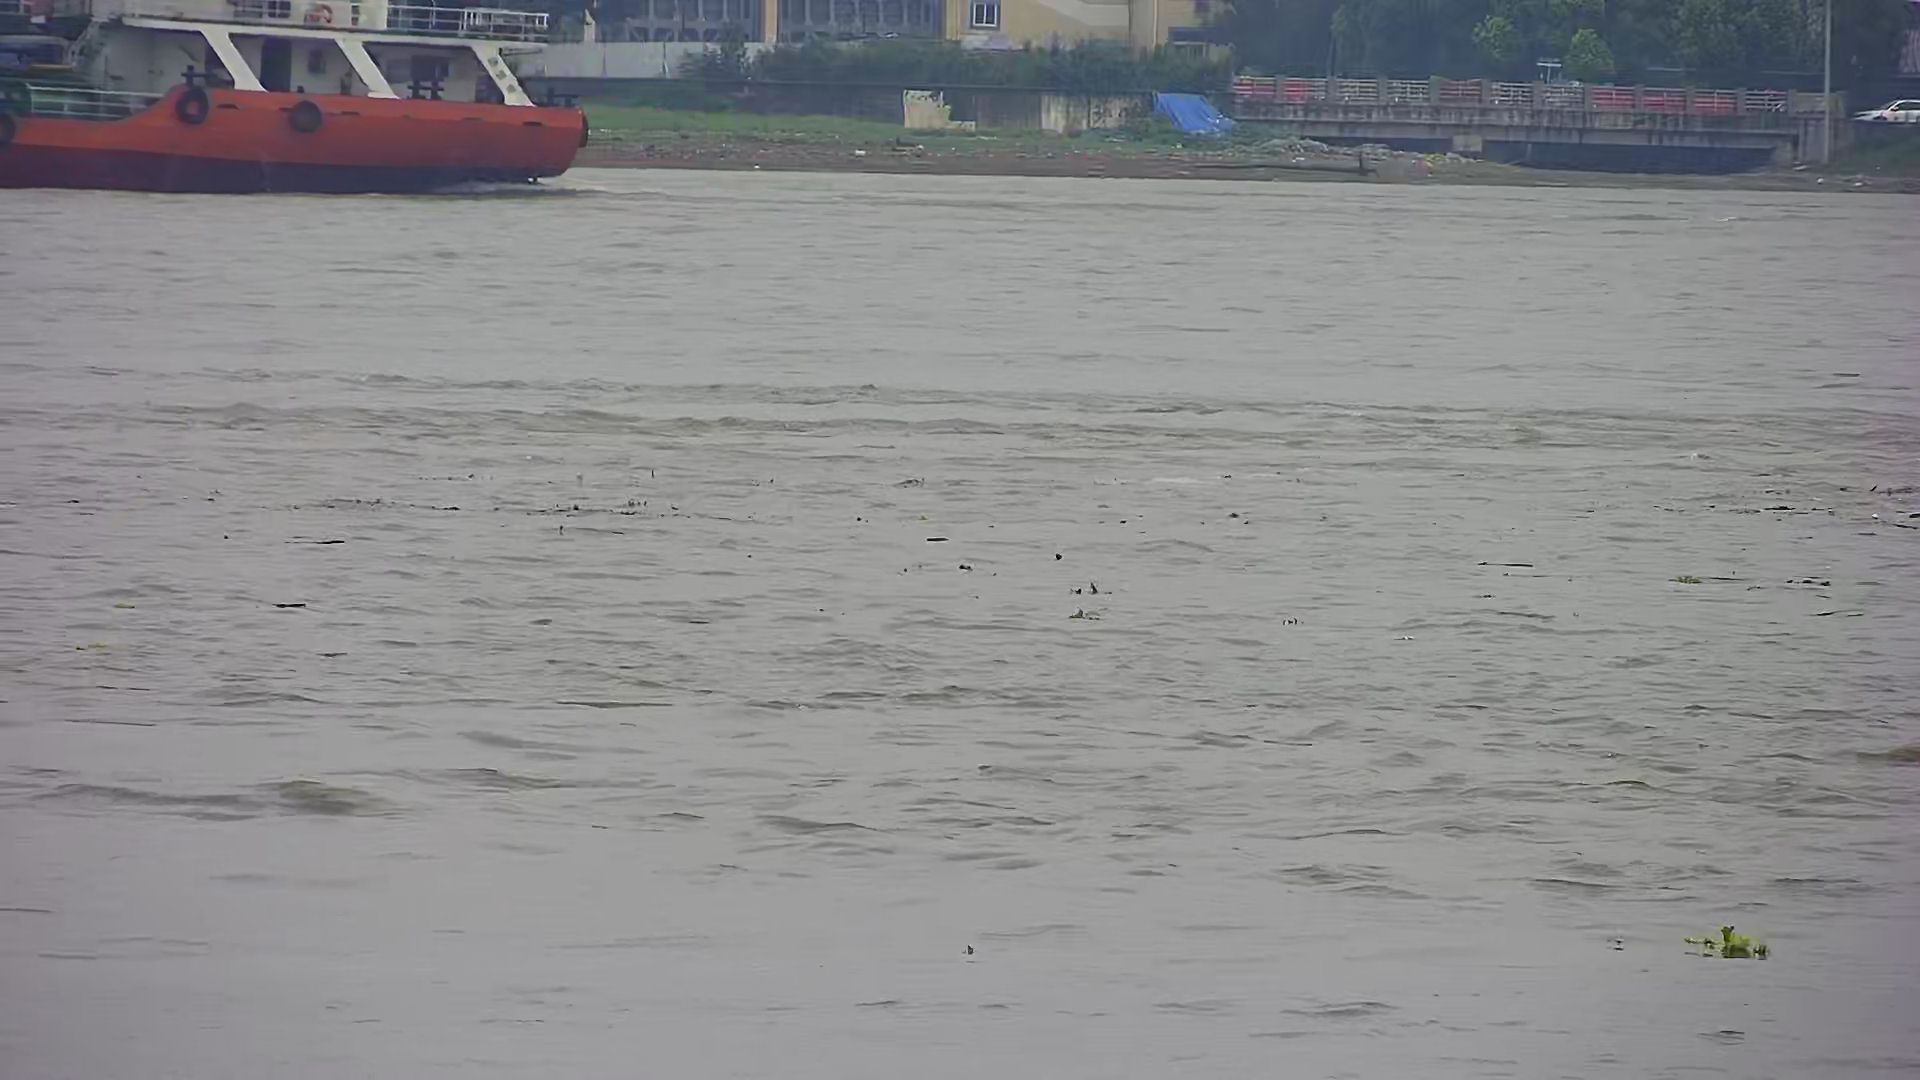rubbish: (1665, 909, 1787, 971)
ship: (1, 1, 618, 189)
